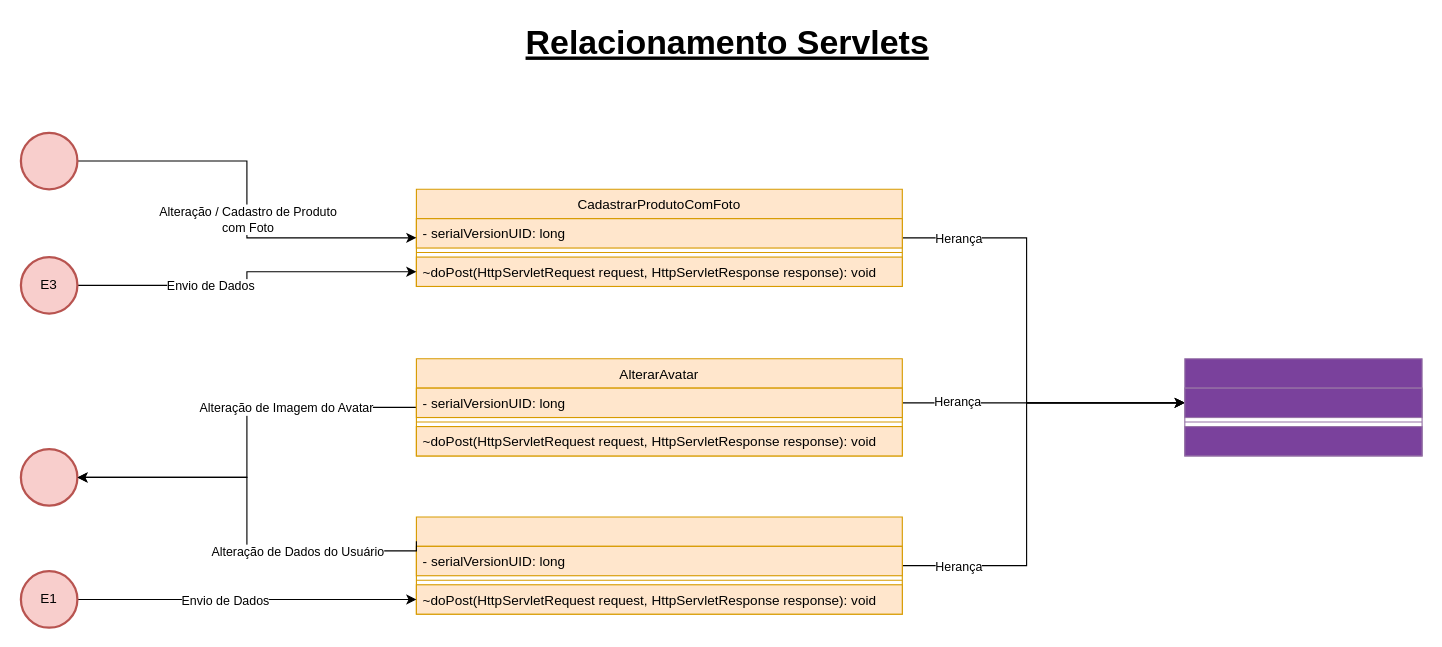
Some shapes in this 1442 by 647 pixel diagram are drawn without their labels. The box of each missing label's shape, as (x1, y1, x2, y2) in pixels:
AlterarDadosUsuario: (415, 516, 902, 614)
E0: (19, 447, 78, 506)
E2: (19, 131, 78, 190)
HttpServlet: (1184, 358, 1422, 456)
